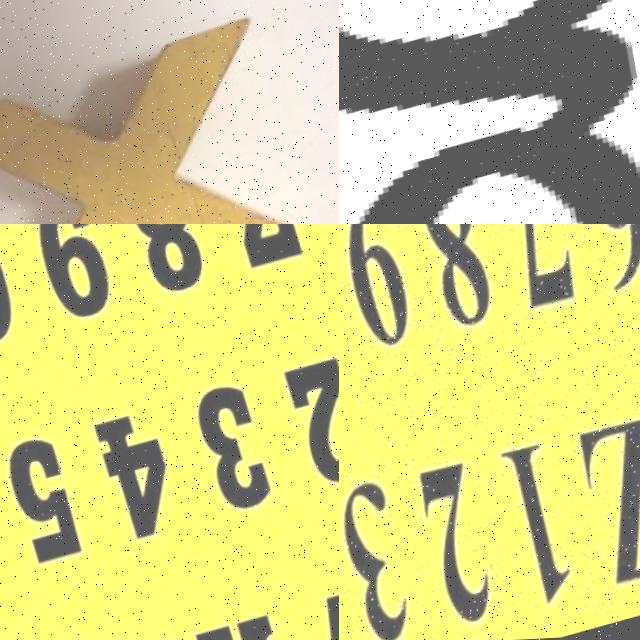0: (339, 224, 376, 418), (0, 224, 41, 374)
1: (475, 415, 605, 636)
2: (396, 437, 531, 640), (271, 342, 339, 503)
3: (339, 454, 455, 640), (182, 376, 289, 527)
4: (78, 391, 213, 572)
5: (0, 416, 109, 592)
6: (547, 224, 640, 328)
7: (464, 224, 619, 347), (193, 224, 323, 302)
8: (389, 224, 530, 371), (108, 224, 231, 316)
9: (339, 224, 454, 391), (8, 224, 137, 344)
G: (339, 0, 640, 224)
X: (0, 12, 339, 224)
